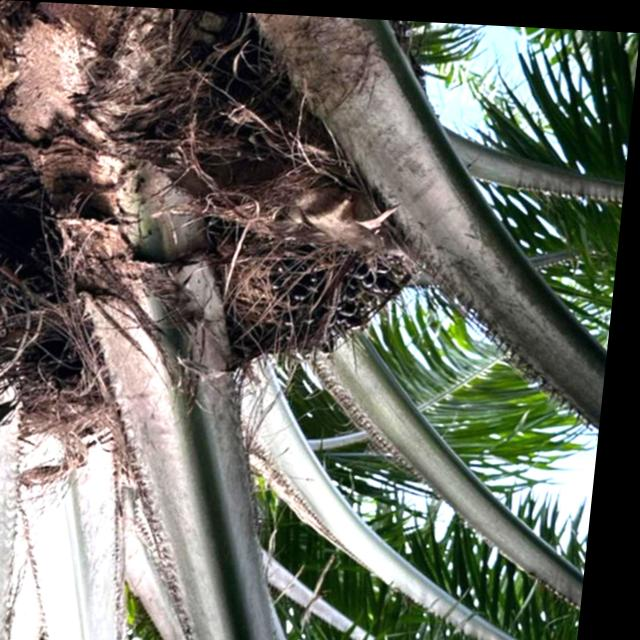almost: (197, 198, 417, 375)
